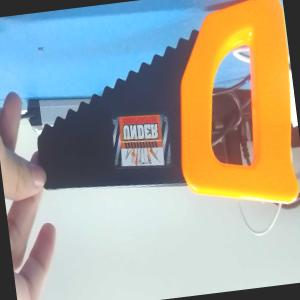serrote: (35, 0, 300, 232)
